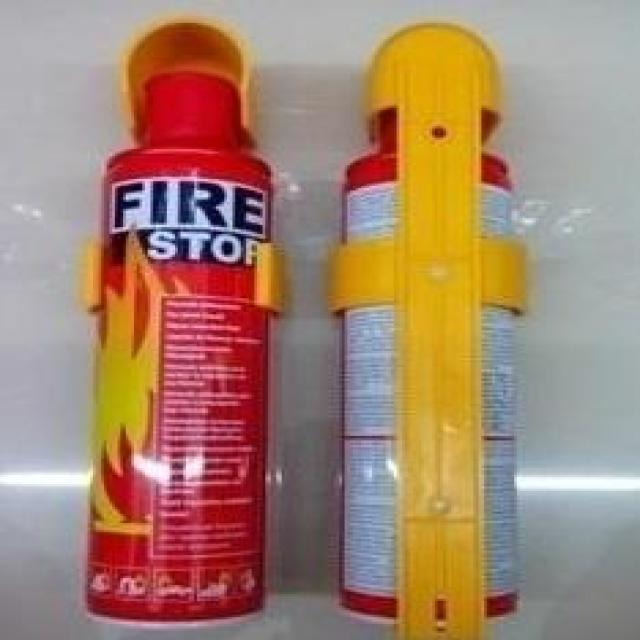fire_extinguisher: (320, 15, 531, 625), (75, 62, 275, 628)
